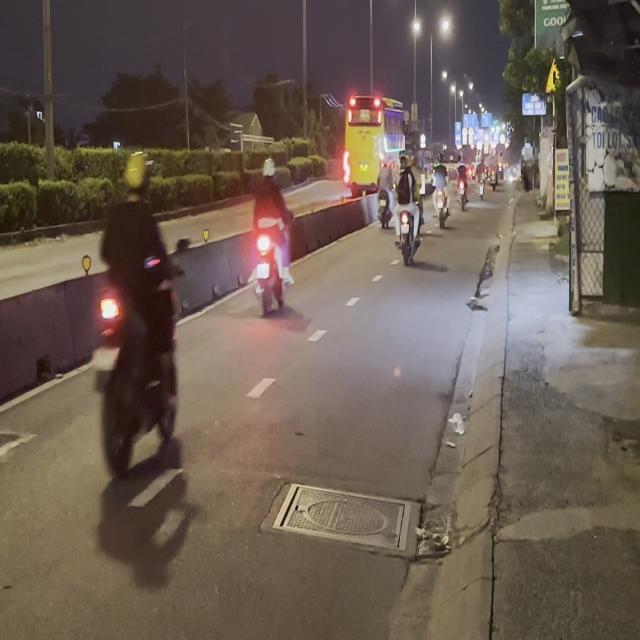helmet: (124, 151, 154, 201)
licenseplate: (84, 150, 186, 483)
nohelmet: (90, 346, 120, 370)
